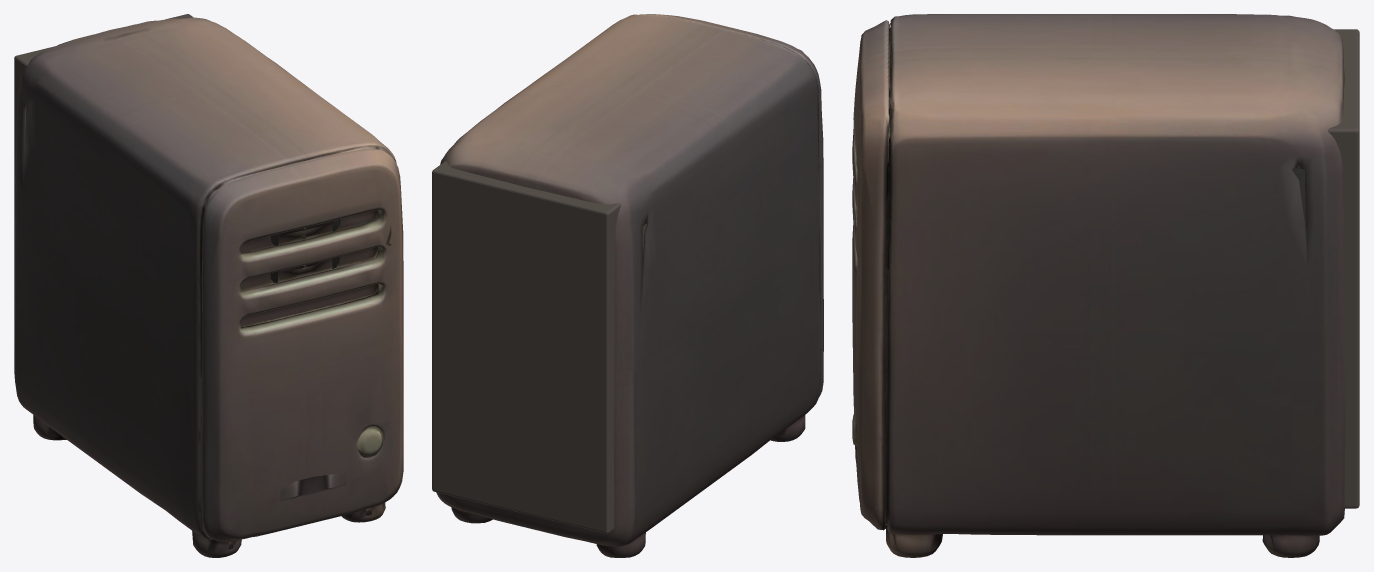
The model's file is workstation-tower-stylized-v2.glb.
3 views of the same model, side by side, from view 1: azimuth 30°, elevation 25°; view 2: azimuth 150°, elevation 25°; view 3: azimuth 270°, elevation 25° (orthographic). The views are drawn at different scales.
Visible parts, largest first — view 1: workstation-tower-stylized-v2; view 2: workstation-tower-stylized-v2; view 3: workstation-tower-stylized-v2.
Part boxes in pixels (x1=…): workstation-tower-stylized-v2: x1=14, y1=14, x2=403, y2=557; workstation-tower-stylized-v2: x1=432, y1=14, x2=823, y2=557; workstation-tower-stylized-v2: x1=852, y1=14, x2=1359, y2=557.
Size of the model in its own units: 0.2715 by 0.48 by 0.4842.
2 materials, 1 textured.
